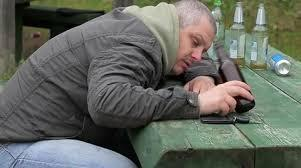Drunk: (178, 19, 208, 72)
